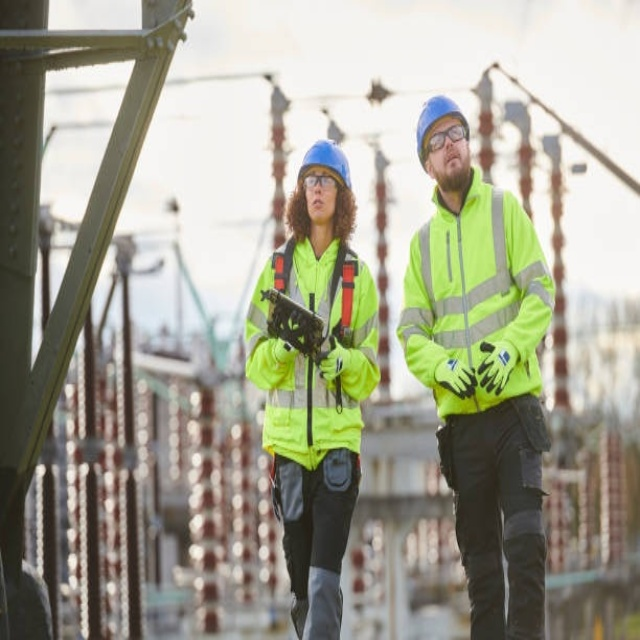Gafas: (427, 124, 468, 153), (303, 174, 337, 188)
Guantes: (475, 340, 517, 397), (274, 307, 312, 357), (436, 355, 477, 399), (316, 341, 351, 386)
Sin_mascara: (441, 149, 465, 177), (306, 195, 328, 216)
